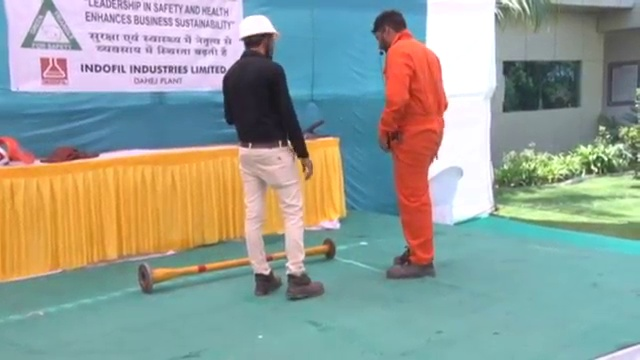helmet: (238, 14, 281, 42)
helmet_off: (369, 12, 408, 57)
helmet_on: (237, 14, 281, 57)
person: (220, 15, 327, 300), (367, 11, 450, 280)
